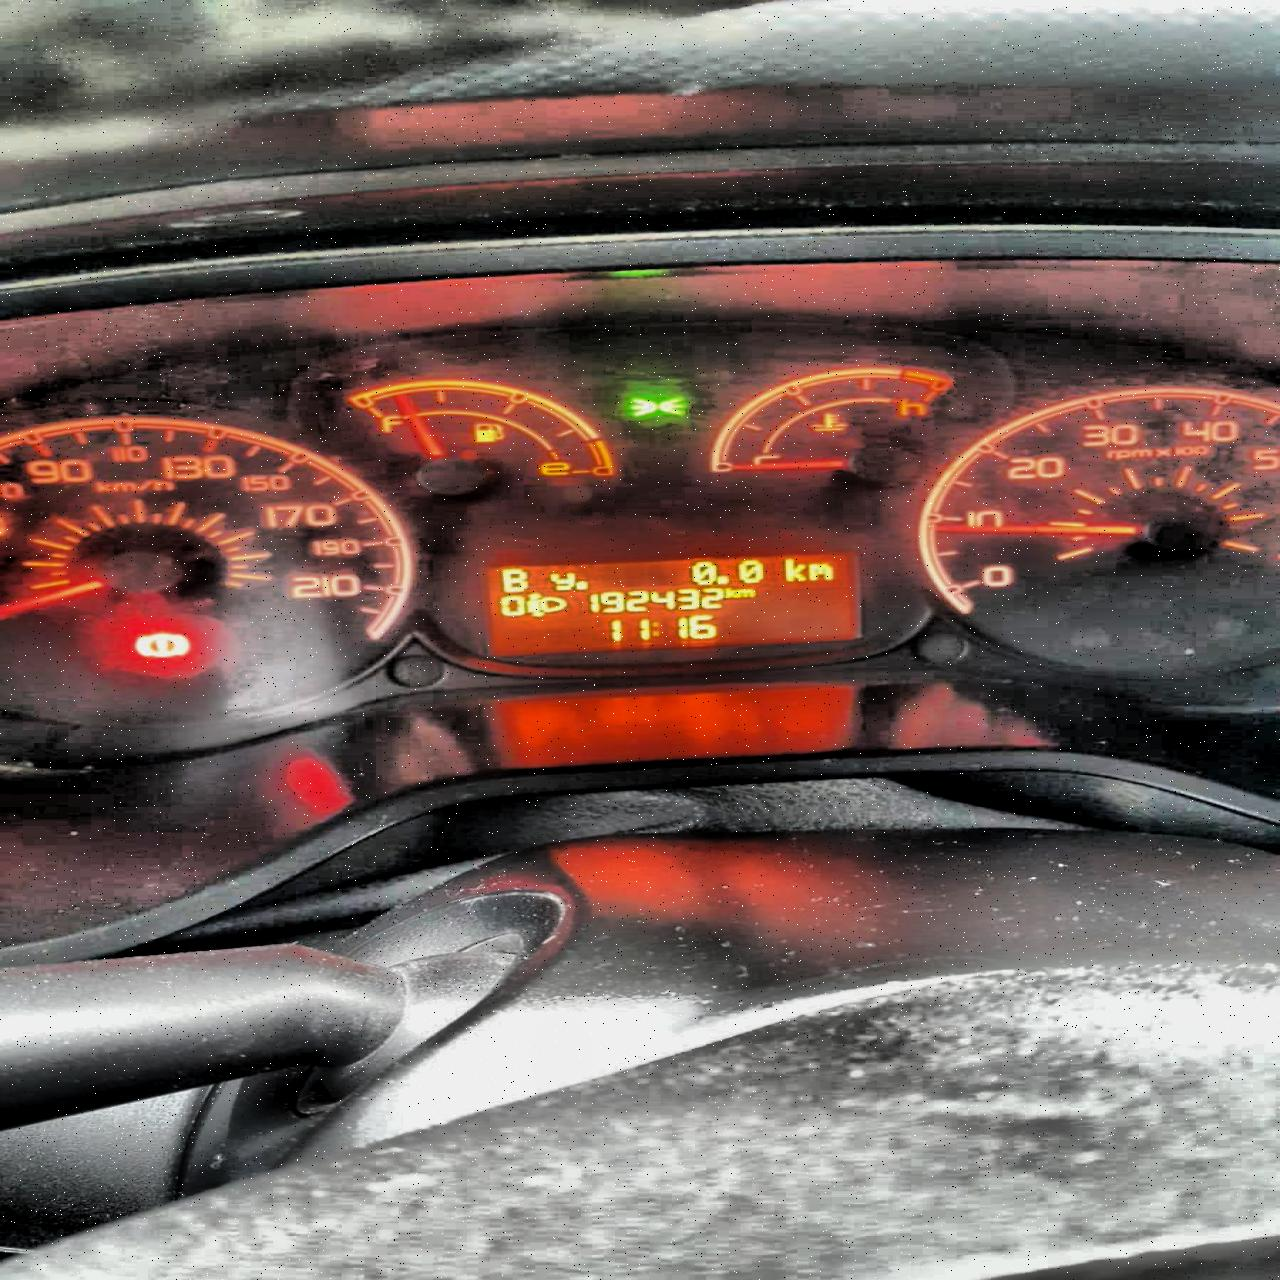-: (574, 578, 588, 591), (716, 573, 730, 584)
0: (686, 559, 716, 584), (737, 558, 763, 584), (498, 594, 525, 617)
1: (606, 618, 624, 645), (635, 615, 651, 642), (586, 591, 599, 615), (676, 614, 687, 640)
2: (624, 590, 647, 613), (701, 587, 723, 610)
3: (676, 587, 699, 611)
4: (649, 588, 675, 610)
6: (686, 613, 717, 639)
9: (600, 590, 624, 613)
X: (498, 567, 529, 593), (546, 571, 576, 592), (783, 557, 806, 583), (808, 561, 835, 581), (649, 620, 662, 639), (735, 588, 756, 598), (723, 586, 736, 598)
odometer: (474, 550, 870, 658)
